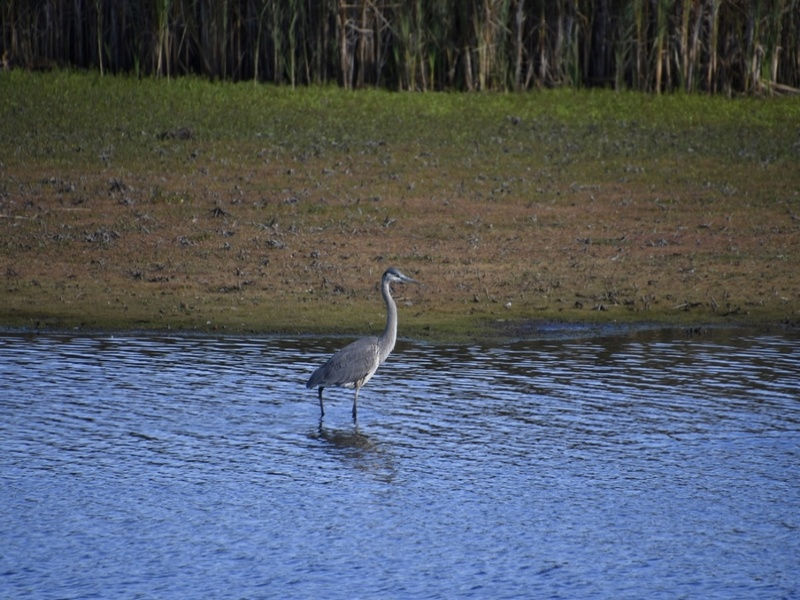heron: (308, 267, 419, 423)
